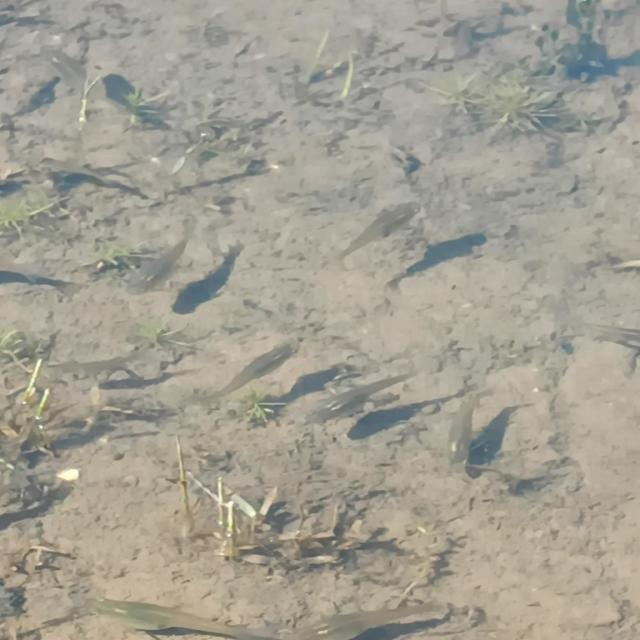Sivrisinek Baligi: (1, 1, 638, 638), (24, 37, 133, 114), (93, 586, 249, 636), (120, 224, 211, 299), (293, 364, 414, 419), (206, 343, 306, 402), (338, 194, 420, 259), (440, 387, 494, 470)
